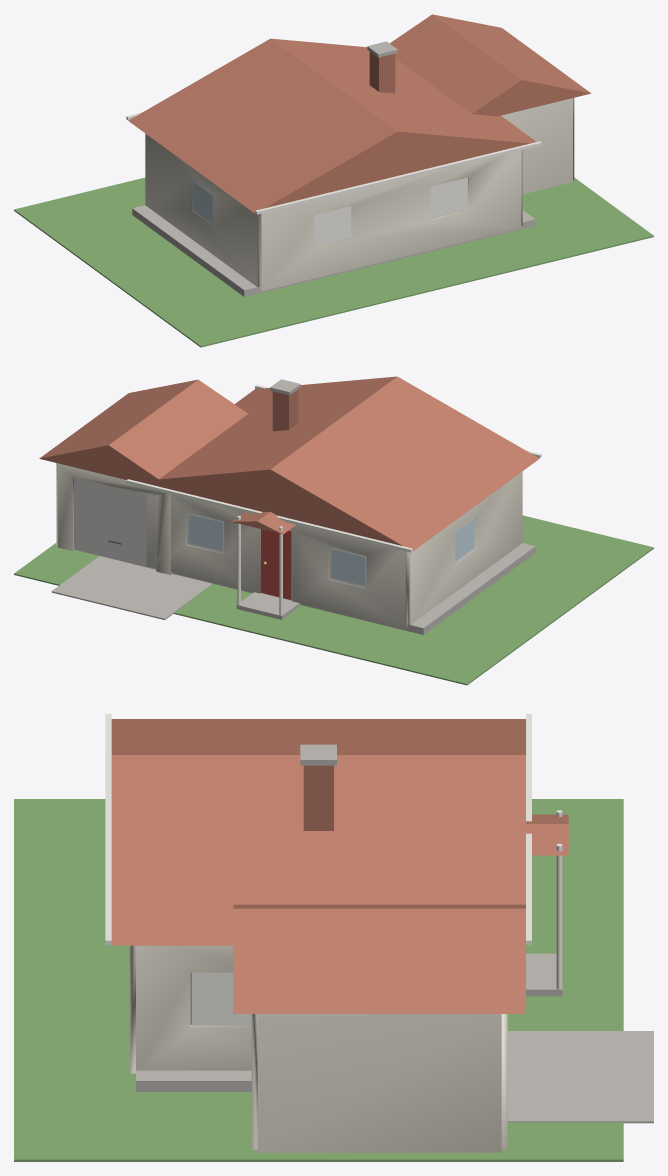
File: suburban_house_v2.glb
The picture shows the model from 3 angles, top to bottom: view 1: azimuth 30°, elevation 25°; view 2: azimuth 150°, elevation 25°; view 3: azimuth 270°, elevation 25°; orthographic projection. The views are drawn at different scales.
Visible parts, largest first — view 1: main_roof, lawn, merged_wall_stucco (×2), garage_roof, frame (×3), foundation, back_gutter, chimney, glass; view 2: main_roof, lawn, merged_wall_stucco (×2), garage_roof, panel (×2), driveway, frame (×3), foundation, glass (×3), front_gutter, porch_slab, chimney (+1 smaller); view 3: main_roof, lawn, merged_wall_stucco (×2), garage_roof, driveway, frame, foundation, chimney, back_gutter, porch_roof, porch_slab, front_gutter (+2 smaller).
Boxes of the visible parts, bbox=[...] form: main_roof: bbox=[128, 38, 536, 213]; lawn: bbox=[14, 177, 653, 347]; merged_wall_stucco (×2): bbox=[145, 98, 574, 290]; garage_roof: bbox=[390, 14, 591, 116]; frame (×3): bbox=[192, 177, 467, 247]; foundation: bbox=[132, 205, 535, 296]; back_gutter: bbox=[255, 141, 541, 214]; chimney: bbox=[369, 51, 395, 93]; glass: bbox=[193, 181, 212, 223]; main_roof: bbox=[138, 376, 539, 551]; lawn: bbox=[14, 515, 653, 685]; merged_wall_stucco (×2): bbox=[56, 463, 522, 628]; garage_roof: bbox=[39, 379, 247, 489]; panel (×2): bbox=[74, 477, 291, 599]; driveway: bbox=[51, 556, 213, 619]; frame (×3): bbox=[187, 512, 475, 588]; foundation: bbox=[133, 543, 535, 634]; glass (×3): bbox=[189, 514, 474, 585]; front_gutter: bbox=[126, 479, 412, 552]; porch_slab: bbox=[236, 592, 300, 619]; chimney: bbox=[272, 389, 298, 431]; main_roof: bbox=[111, 719, 525, 945]; lawn: bbox=[14, 799, 623, 1161]; merged_wall_stucco (×2): bbox=[129, 945, 507, 1152]; garage_roof: bbox=[233, 904, 525, 1013]; driveway: bbox=[507, 1031, 653, 1123]; frame: bbox=[190, 972, 251, 1025]; foundation: bbox=[136, 1070, 251, 1091]; chimney: bbox=[303, 765, 333, 830]; back_gutter: bbox=[105, 714, 111, 945]; porch_roof: bbox=[526, 814, 568, 855]; porch_slab: bbox=[526, 953, 562, 996]; front_gutter: bbox=[526, 714, 531, 945].
Size of the model in its own units: 14.15 by 4.85 by 10.5.
